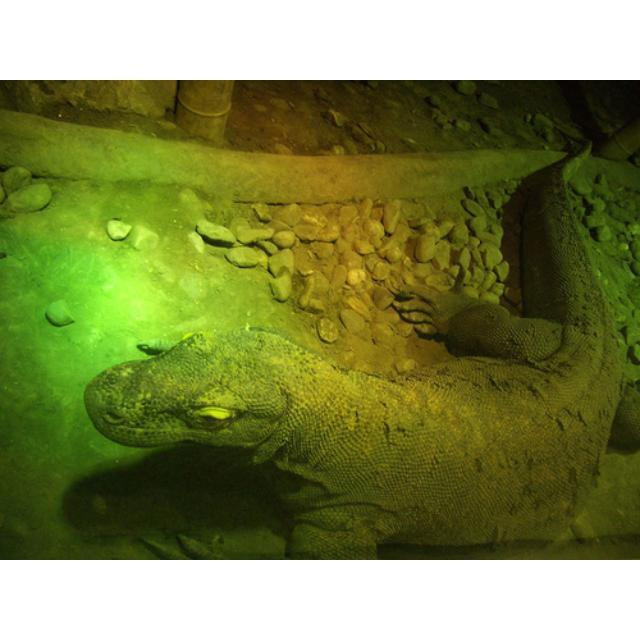KomodoDragon: (83, 141, 638, 558)
